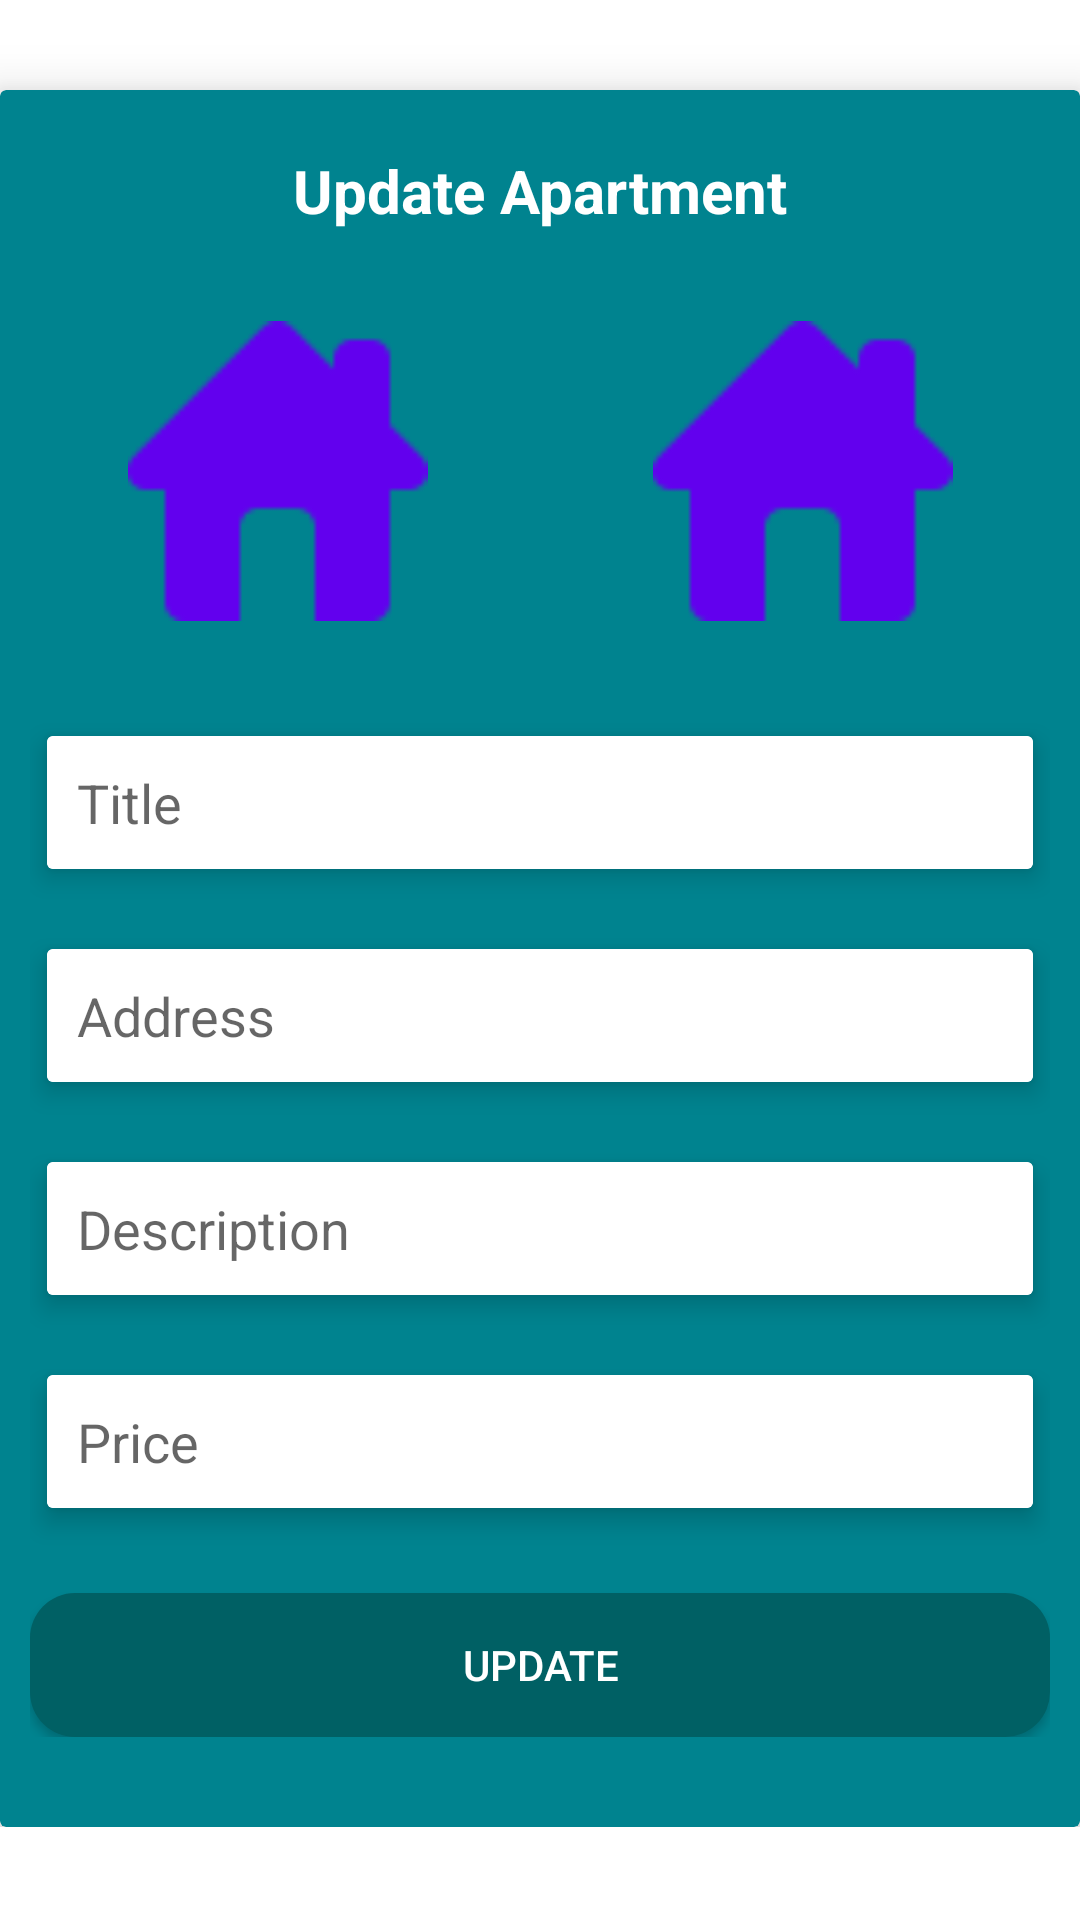

Point at icon controls on the screen. Image size 1080*1920, points as (x,y).
home: (278,471), (803,471)
